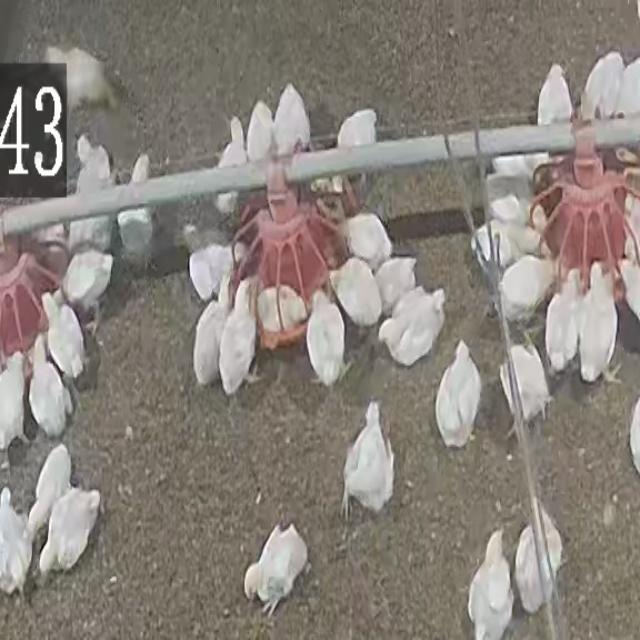chicken: (242, 522, 310, 614), (344, 407, 396, 517), (38, 486, 100, 577), (509, 506, 562, 612), (379, 287, 446, 369), (468, 529, 516, 640), (433, 340, 481, 449), (44, 46, 118, 113), (190, 273, 230, 389), (74, 132, 114, 247), (580, 263, 616, 383), (31, 332, 71, 438), (41, 291, 88, 380), (219, 281, 256, 394), (26, 446, 72, 536), (57, 247, 114, 318), (499, 255, 563, 318), (305, 292, 346, 387), (502, 345, 550, 425), (484, 174, 549, 233), (119, 154, 154, 262), (333, 109, 378, 193), (546, 268, 583, 369), (0, 488, 30, 606), (330, 258, 382, 323), (470, 220, 554, 260), (185, 244, 245, 298), (212, 116, 247, 208), (0, 349, 26, 469), (580, 52, 625, 120), (274, 83, 312, 155), (341, 216, 391, 265), (258, 284, 306, 335), (377, 256, 418, 312), (536, 63, 572, 125), (489, 155, 552, 187), (610, 55, 640, 119), (245, 98, 274, 163)
